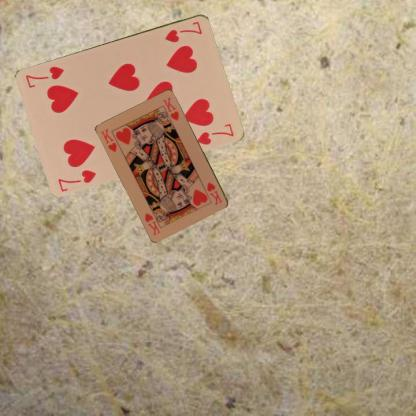7h: (162, 18, 204, 44), (56, 166, 98, 192)
Kh: (99, 126, 119, 153), (205, 180, 224, 206)
